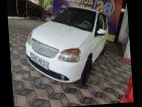car: (21, 4, 114, 89)
